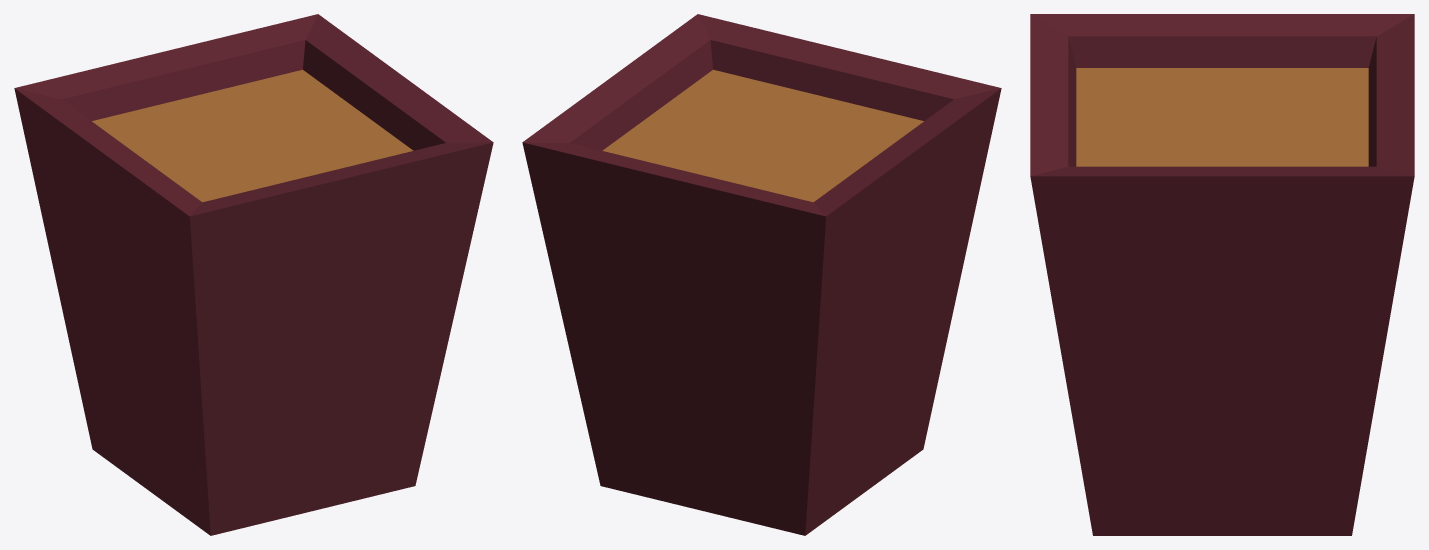
File: PlantPot_4_B.fbx
The picture shows the model from 3 angles, left to right: view 1: azimuth 30°, elevation 25°; view 2: azimuth 150°, elevation 25°; view 3: azimuth 270°, elevation 25°; orthographic projection. The views are drawn at different scales.
Parts seen in each view (by area): view 1: PlantPot_4_B; view 2: PlantPot_4_B; view 3: PlantPot_4_B.
Part boxes in pixels (box(x1,y1,x2,y2)): PlantPot_4_B: box(14, 14, 493, 535); PlantPot_4_B: box(522, 14, 1001, 535); PlantPot_4_B: box(1030, 14, 1414, 535).
Size of the model in its own units: 21.63 by 23.98 by 21.63.
